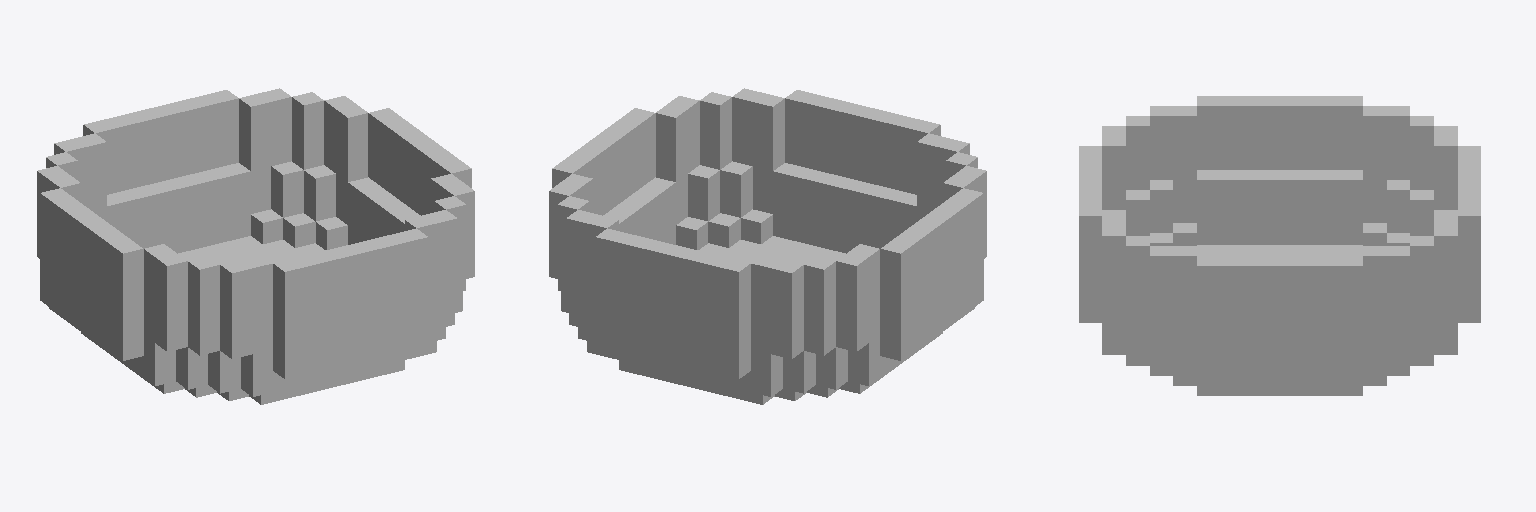
File: Bowl.obj
The picture shows the model from 3 angles: view 1: azimuth 30°, elevation 25°; view 2: azimuth 150°, elevation 25°; view 3: azimuth 270°, elevation 25°; orthographic projection.
Parts seen in each view (by area): view 1: object 1; view 2: object 1; view 3: object 1.
Boxes of the visible parts, x1,y1,x2,y2 form: object 1: [37, 88, 474, 404]; object 1: [549, 88, 986, 404]; object 1: [1079, 96, 1480, 395].
Bounding box in the file's own units: 1.7 × 0.7 × 1.7.